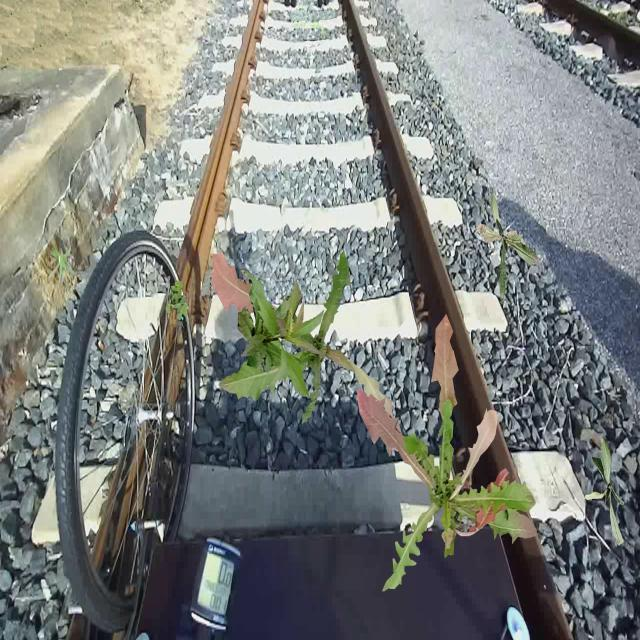Plant: (357, 314, 537, 592), (210, 250, 402, 452), (238, 269, 326, 399), (475, 187, 539, 299), (585, 437, 625, 547), (47, 244, 80, 290), (166, 280, 190, 321)
